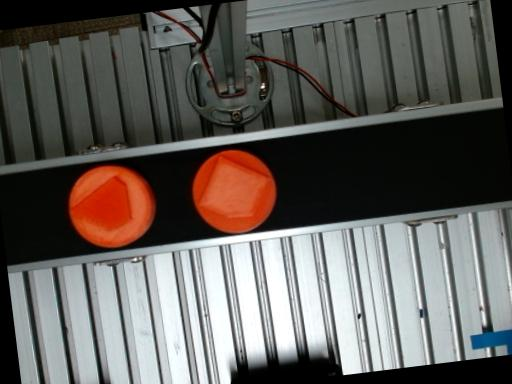Not_Square: (198, 155, 272, 218), (70, 175, 132, 232)
Orange_Waper: (68, 164, 157, 248), (192, 149, 277, 233)
